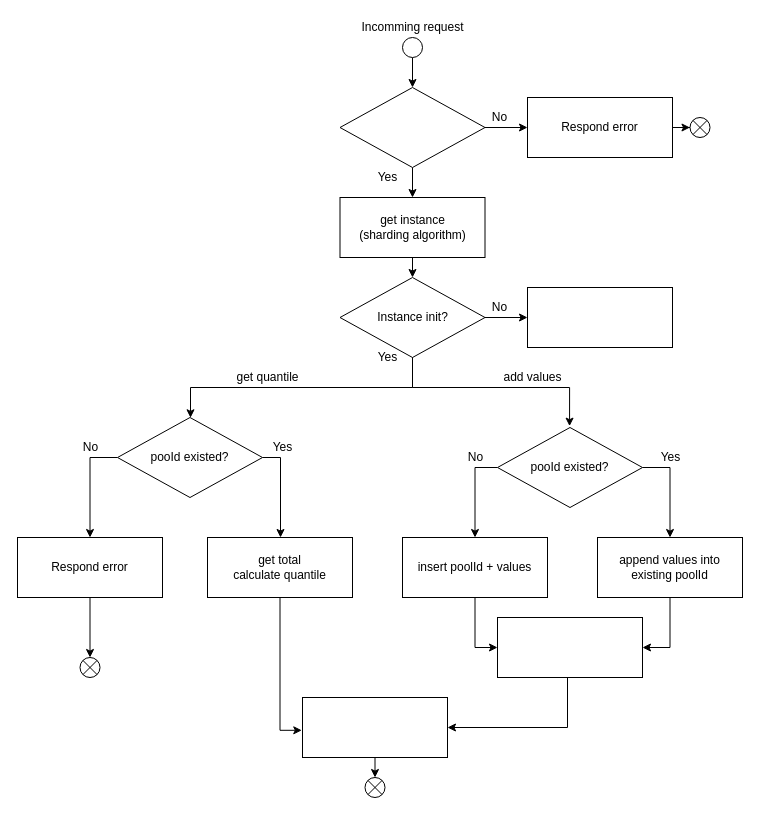
Image size: 760x815. Some labels were removed from this diagram. The centre of each missing label's shape, as x and y in pixels:
"Increase request count Save requested poolId" belongs at [569,647].
"Respond" belongs at [375,727].
"Schema validate?" belongs at [412,127].
"spawn instance" belongs at [599,317].
